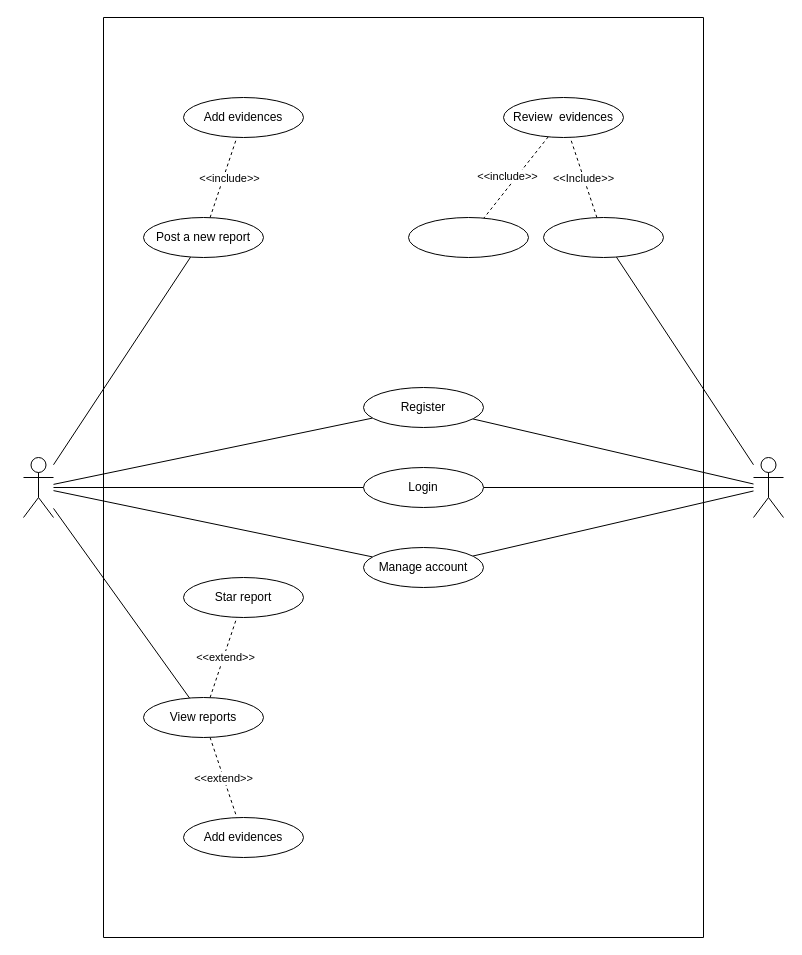
The diagram is 802 pixels wide and 955 high, and some of its shapes have lost their labels. Each missing label, with the box of its shape:
Approve/ Decline report: (408, 216, 528, 258)
Police: (752, 456, 784, 518)
Review reports: (542, 216, 664, 258)
Witness: (22, 456, 54, 518)
